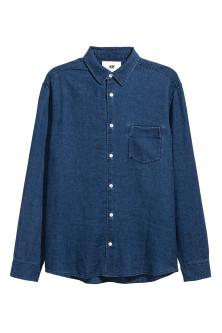teeshirt: (11, 45, 212, 284)
